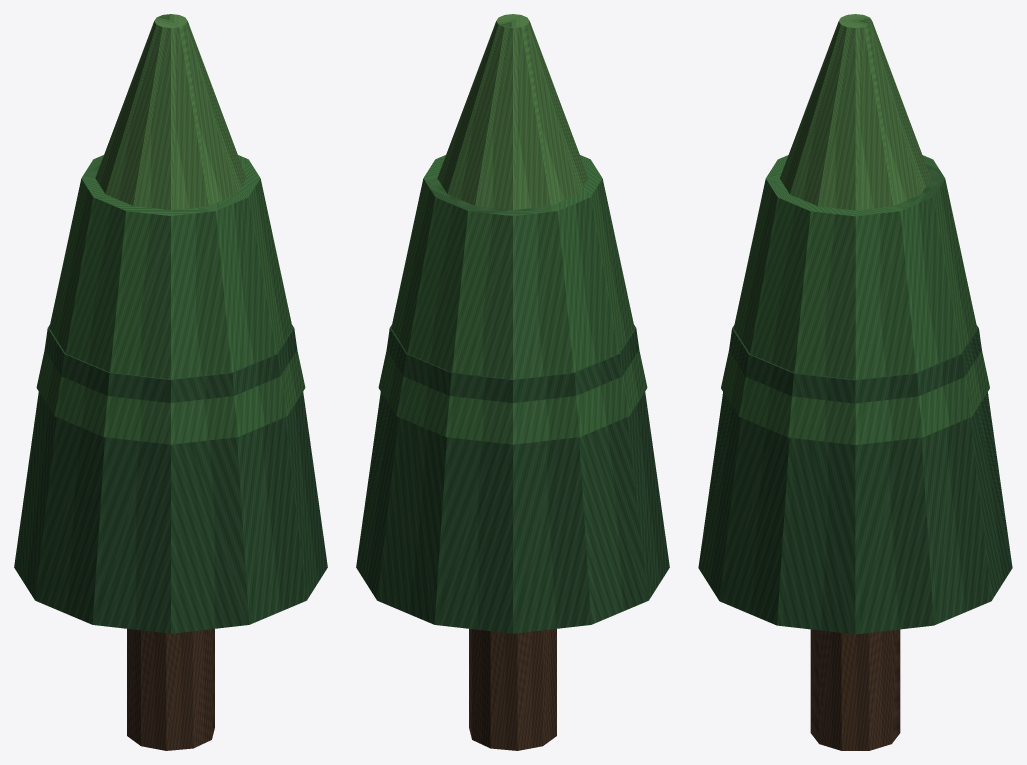
File: tree_b.glb
3 renders of one model, left to right at view 1: azimuth 30°, elevation 25°; view 2: azimuth 150°, elevation 25°; view 3: azimuth 270°, elevation 25°, orthographic.
Visible parts, largest first — view 1: Cylinder; view 2: Cylinder; view 3: Cylinder.
Part boxes in pixels (box(x1,y1,x2,y2)): Cylinder: box(14, 14, 327, 750); Cylinder: box(356, 14, 669, 750); Cylinder: box(698, 14, 1012, 750).
Bounding box in the file's own units: 0.36 × 0.9 × 0.36.
Materials: 1 (1 with a texture image).
